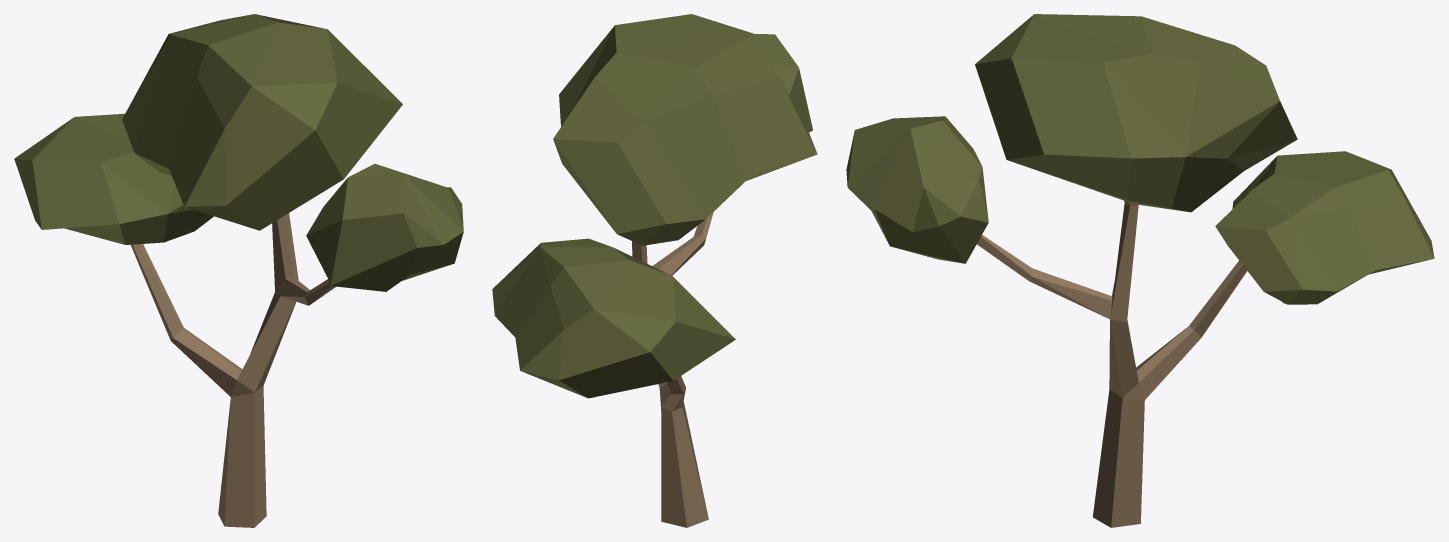
The model's file is sm_tree2.fbx.
3 views of the same model, side by side, from view 1: azimuth 30°, elevation 25°; view 2: azimuth 150°, elevation 25°; view 3: azimuth 270°, elevation 25° (orthographic). The views are drawn at different scales.
Parts seen in each view (by area): view 1: sm_tree2; view 2: sm_tree2; view 3: sm_tree2.
Part boxes in pixels (x1,y1,x2,y2): sm_tree2: (14, 14, 463, 527); sm_tree2: (492, 14, 817, 527); sm_tree2: (846, 14, 1434, 527).
Bounding box in the file's own units: 318 × 555 × 598.
